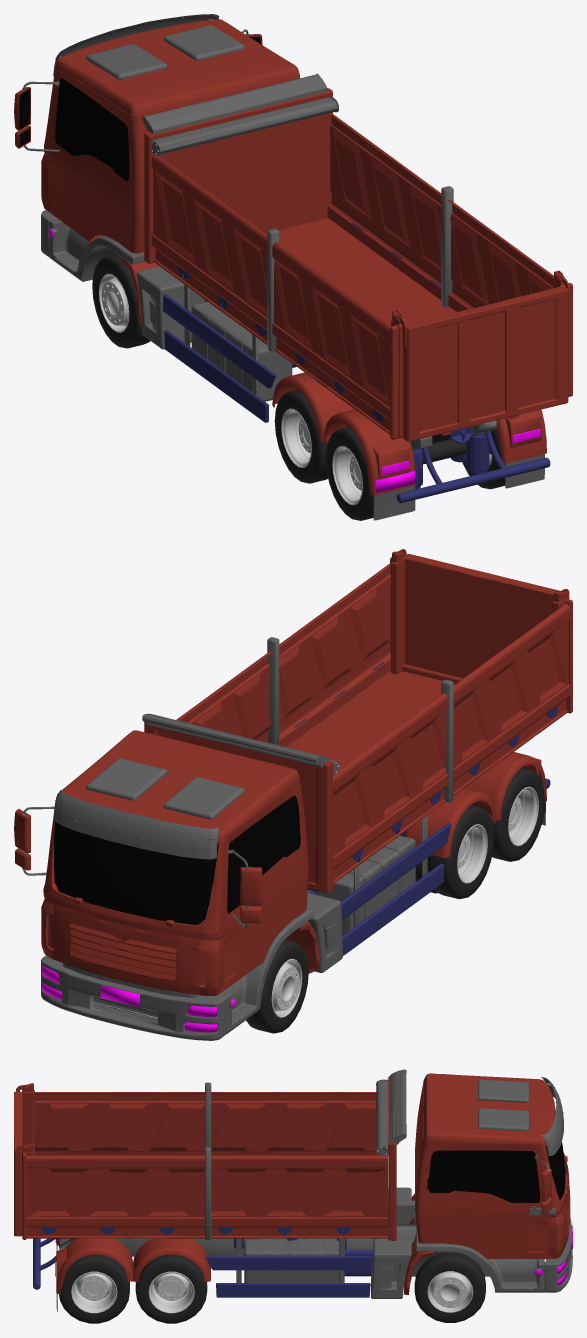
File: truck.glb
3 views of the same model, one above another, from view 1: azimuth 30°, elevation 25°; view 2: azimuth 150°, elevation 25°; view 3: azimuth 270°, elevation 25° (orthographic). The views are drawn at different scales.
Parts seen in each view (by area): view 1: truck_car, truck_back, truck_middle, truck_front_left, truck_light; view 2: truck_car, truck_middle, truck_front_left, truck_back, truck_light; view 3: truck_car, truck_front_right, truck_middle, truck_back.
Boxes of the visible parts, <box> form: truck_car: <box>14,14,572,520</box>; truck_back: <box>325,427,505,520</box>; truck_middle: <box>274,389,448,483</box>; truck_front_left: <box>92,254,150,348</box>; truck_light: <box>49,218,540,493</box>; truck_car: <box>14,549,572,1040</box>; truck_middle: <box>415,805,494,899</box>; truck_front_left: <box>246,939,308,1033</box>; truck_back: <box>492,768,544,861</box>; truck_light: <box>42,965,235,1032</box>; truck_car: <box>14,1069,572,1311</box>; truck_front_right: <box>414,1252,485,1322</box>; truck_middle: <box>135,1254,207,1323</box>; truck_back: <box>59,1238,129,1323</box>.
Size of the model in its own units: 4.38 by 4.27 by 11.34.
